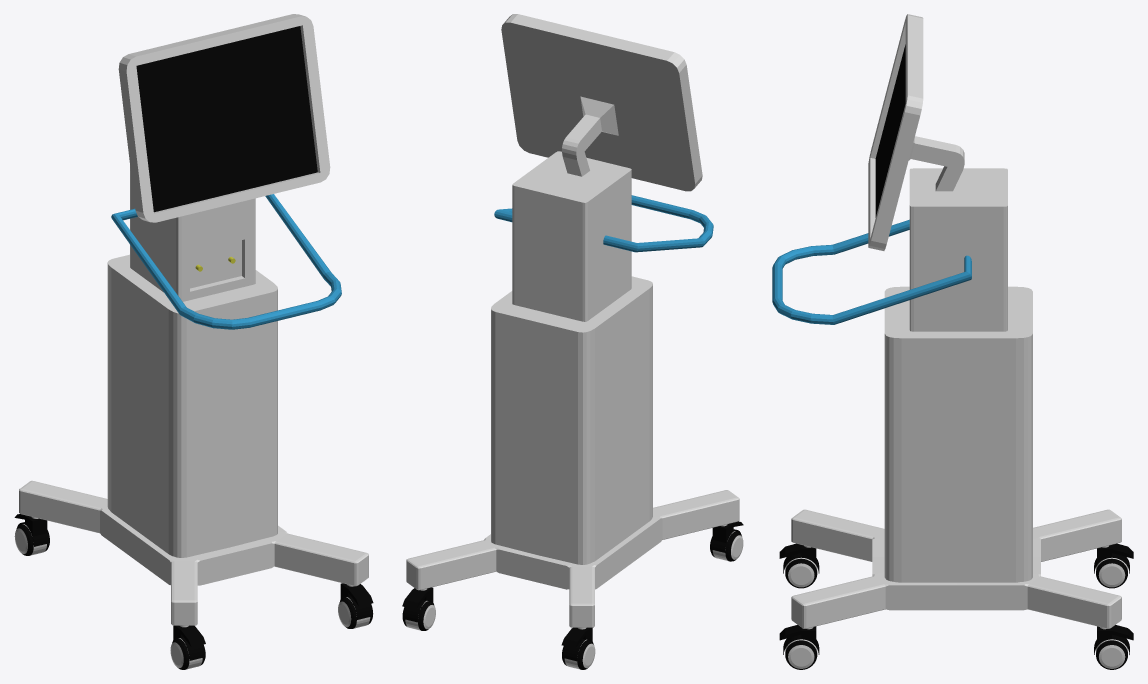
File: BSV05.fbx
3 renders of one model, left to right at view 1: azimuth 30°, elevation 25°; view 2: azimuth 150°, elevation 25°; view 3: azimuth 270°, elevation 25°, orthographic. The views are drawn at different scales.
Parts seen in each view (by area): view 1: BSV05; view 2: BSV05; view 3: BSV05.
Part boxes in pixels (box(x1,y1,x2,y2)): BSV05: box(14, 14, 373, 669); BSV05: box(402, 14, 743, 669); BSV05: box(772, 14, 1133, 669).
Bounding box in the file's own units: 42.35 × 117 × 67.25.
